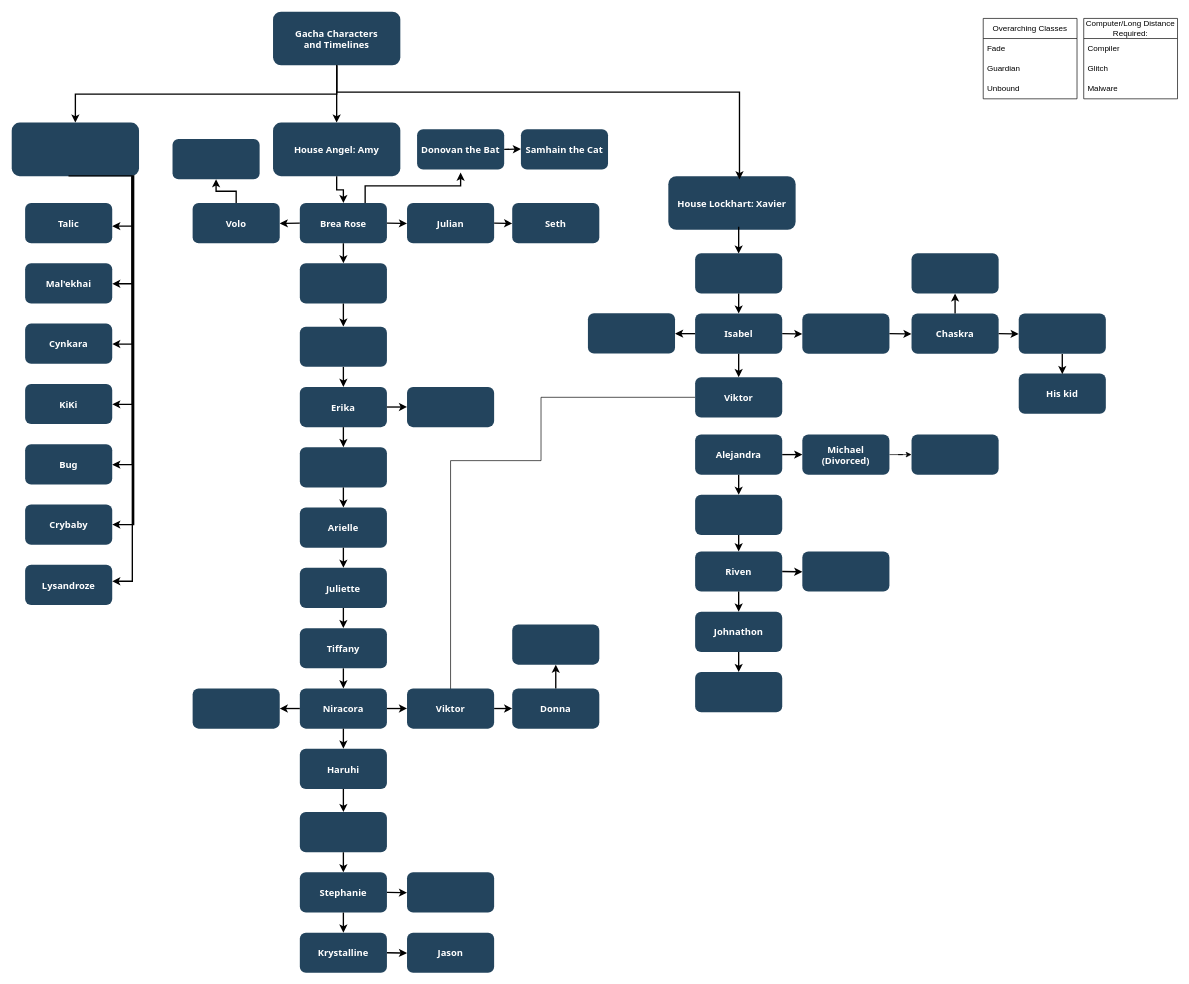
Some shapes in this 1189 by 984 pixel diagram are drawn without their labels. Here are the shapes that lost their labels. From the top down, the centre of each, then its label:
the point at 75,149: Out of the Fade Realm
the point at 215,159: Kiera
the point at 343,283: Madeline
the point at 738,273: Havanna
the point at 954,273: The plant nerd
the point at 343,346: Christina
the point at 631,333: The other daughter
the point at 845,333: Hakar
the point at 1062,333: Irekh
the point at 450,407: Xavier Lee
the point at 343,467: Stacei
the point at 954,454: Trinity
the point at 738,514: Cassiopeia
the point at 845,571: His sister
the point at 555,644: Ishmael
the point at 235,708: Fellnora
the point at 738,692: Leo
the point at 343,832: Jezabelle
the point at 450,892: Rebecca "Tribecca"
